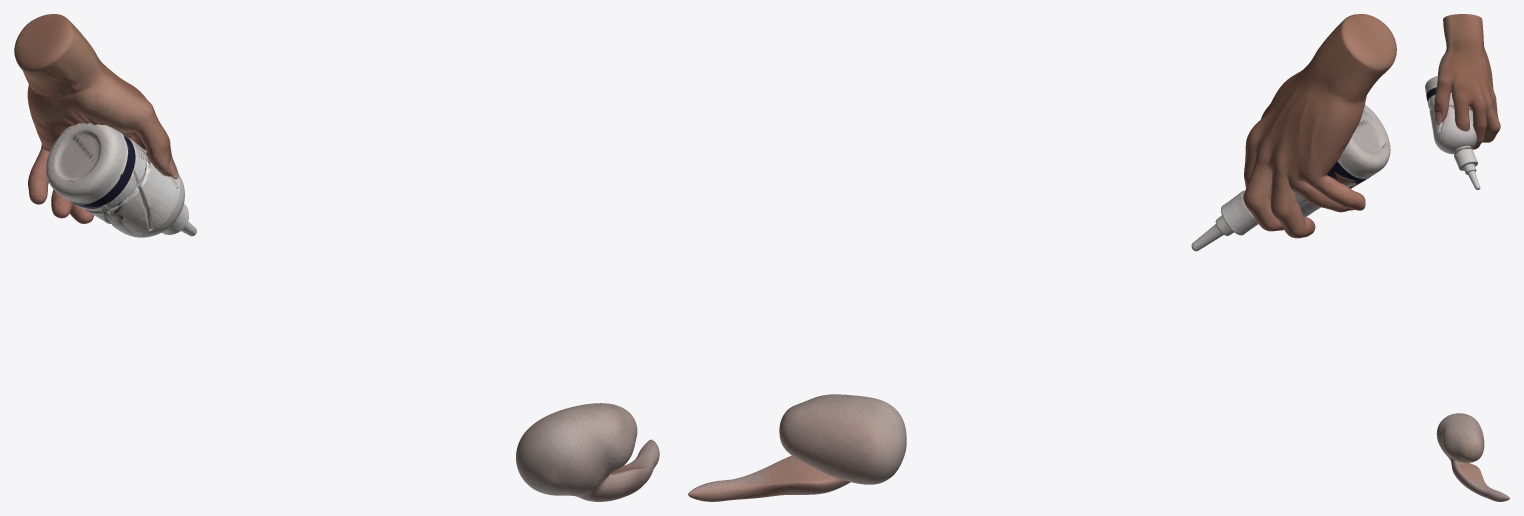
File: EPX-PID-EPOXYINJGROUT.glb
The picture shows the model from 3 angles, left to right: view 1: azimuth 30°, elevation 25°; view 2: azimuth 150°, elevation 25°; view 3: azimuth 270°, elevation 25°; orthographic projection. The views are drawn at different scales.
Parts seen in each view (by area): view 1: mesh_node; view 2: mesh_node; view 3: mesh_node.
Boxes of the visible parts, x1,y1,x2,y2 form: mesh_node: (14, 14, 659, 501); mesh_node: (688, 14, 1396, 501); mesh_node: (1425, 14, 1509, 501).
Size of the model in its own units: 0.23 by 0.203 by 0.0476.
1 material, 1 textured.
